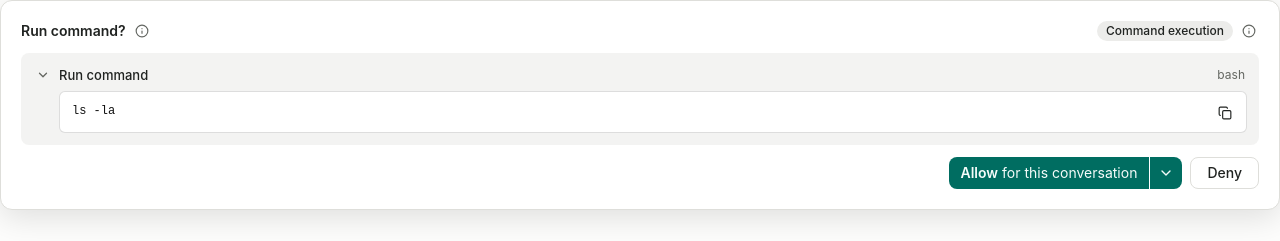
PermissionApprovalControls interactions › code card is expanded by default and toggles closed on header click
Check: the element with test id "tool-code-block" is shown, box [72,104,115,118]
Clicking the header collapses the code block.
Step 1. Click the button with test id "permission-code-toggle" → [104, 75], box [29,59,1251,91]
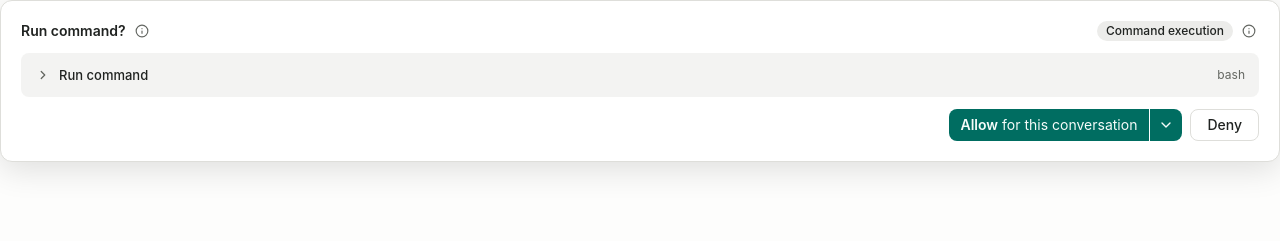
Check: the element with test id "tool-code-block" is gone
Check: the button with test id "permission-code-toggle" is collapsed, box [29,59,1251,91]
